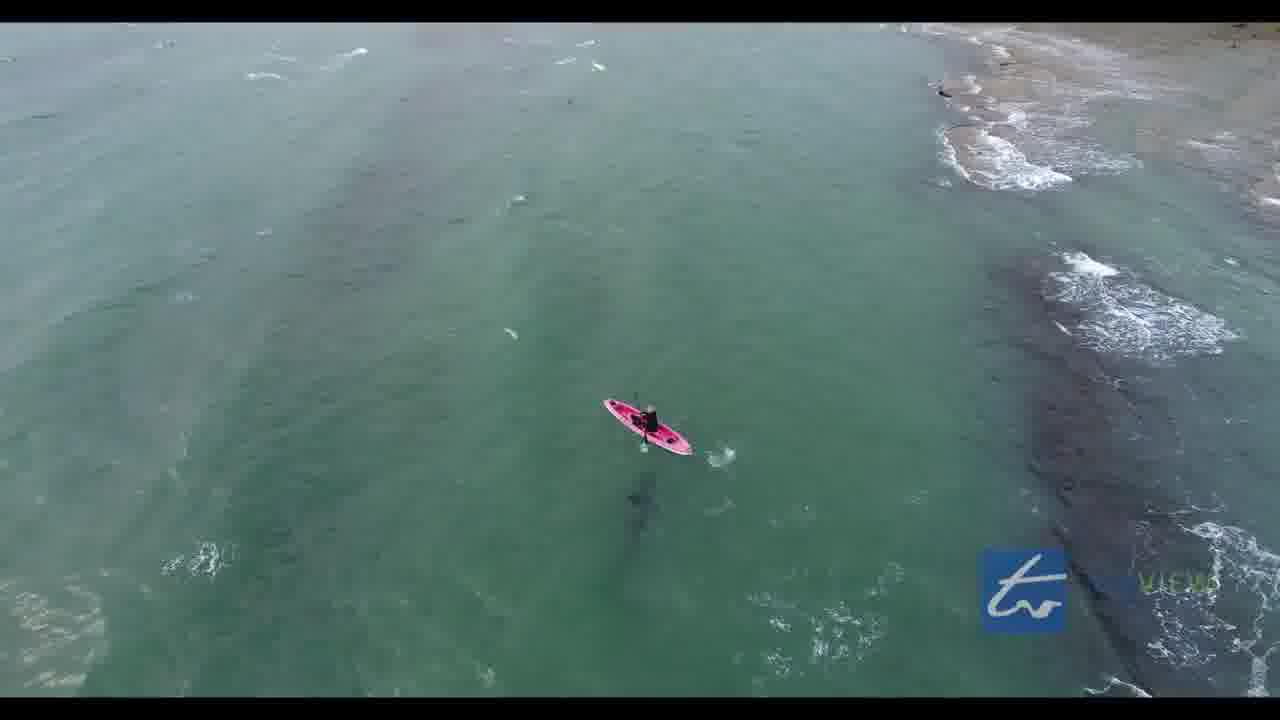swimmer: (630, 393, 661, 434)
